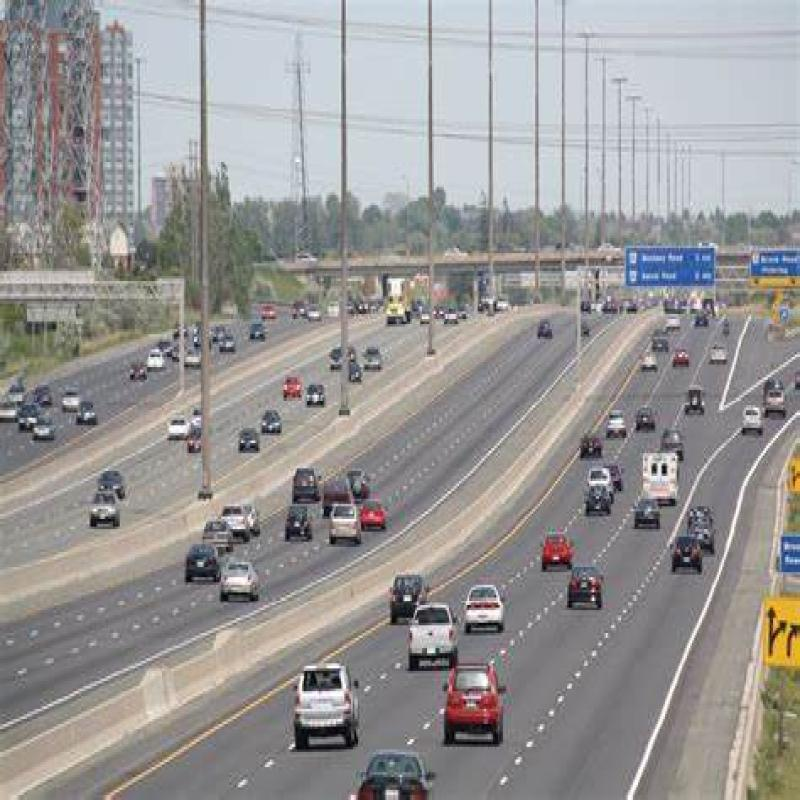car: (291, 639, 362, 763), (447, 649, 512, 767), (399, 571, 453, 662), (212, 545, 260, 627), (80, 484, 137, 552), (460, 583, 517, 645), (562, 561, 605, 616), (326, 500, 360, 549), (547, 520, 577, 571)
